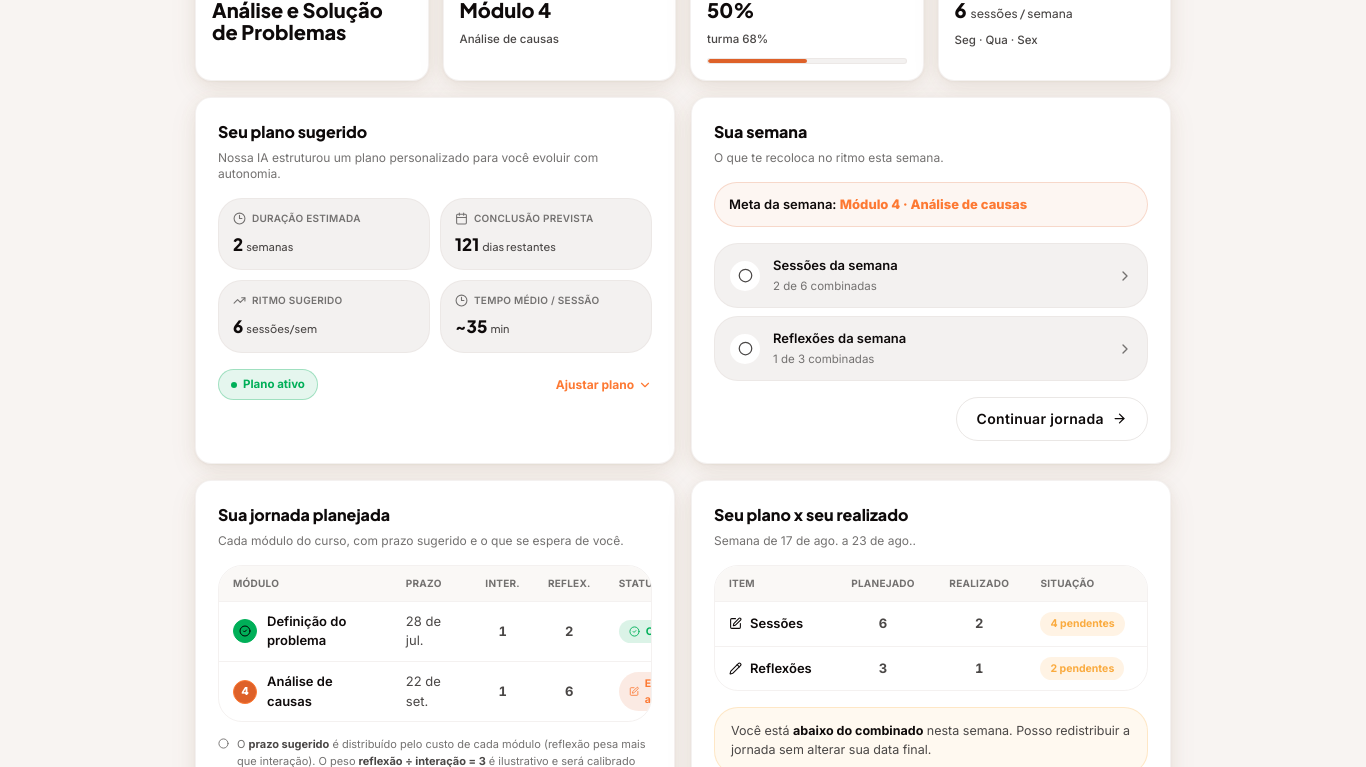
it: MeuPlanoClient — degradação graciosa do dashboard (SH-3.3 AC6, preservado) › sem dias escolhidos, o stat 'Ritmo escolhido' degrada para 'nenhum dia escolhido' (sem crash)
The width and height of the screenshot is (1366, 767).
(page scrolled)
Click the button with test id "adjust-toggle".
click(604, 384)  # box [556,376,652,392]
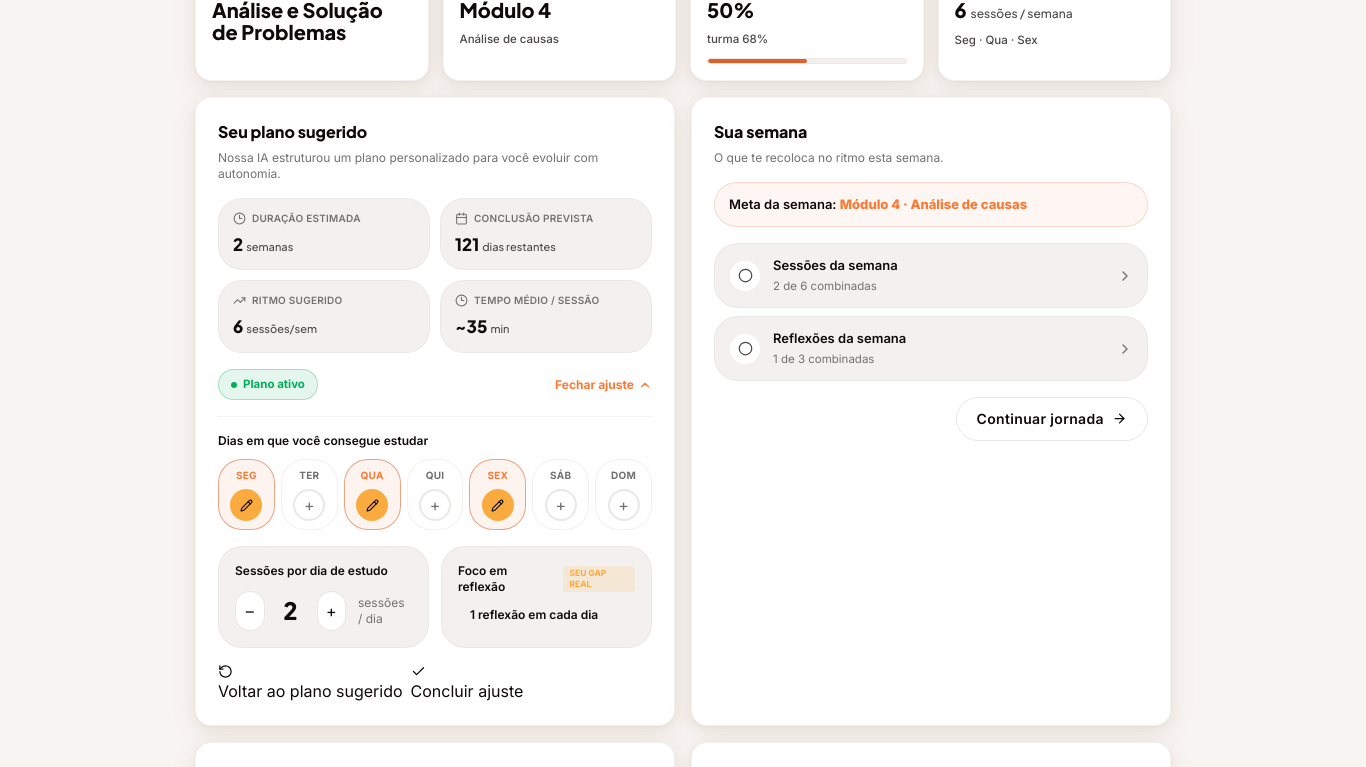
Click the button "Seg".
click(246, 495)  # box [218,459,275,530]
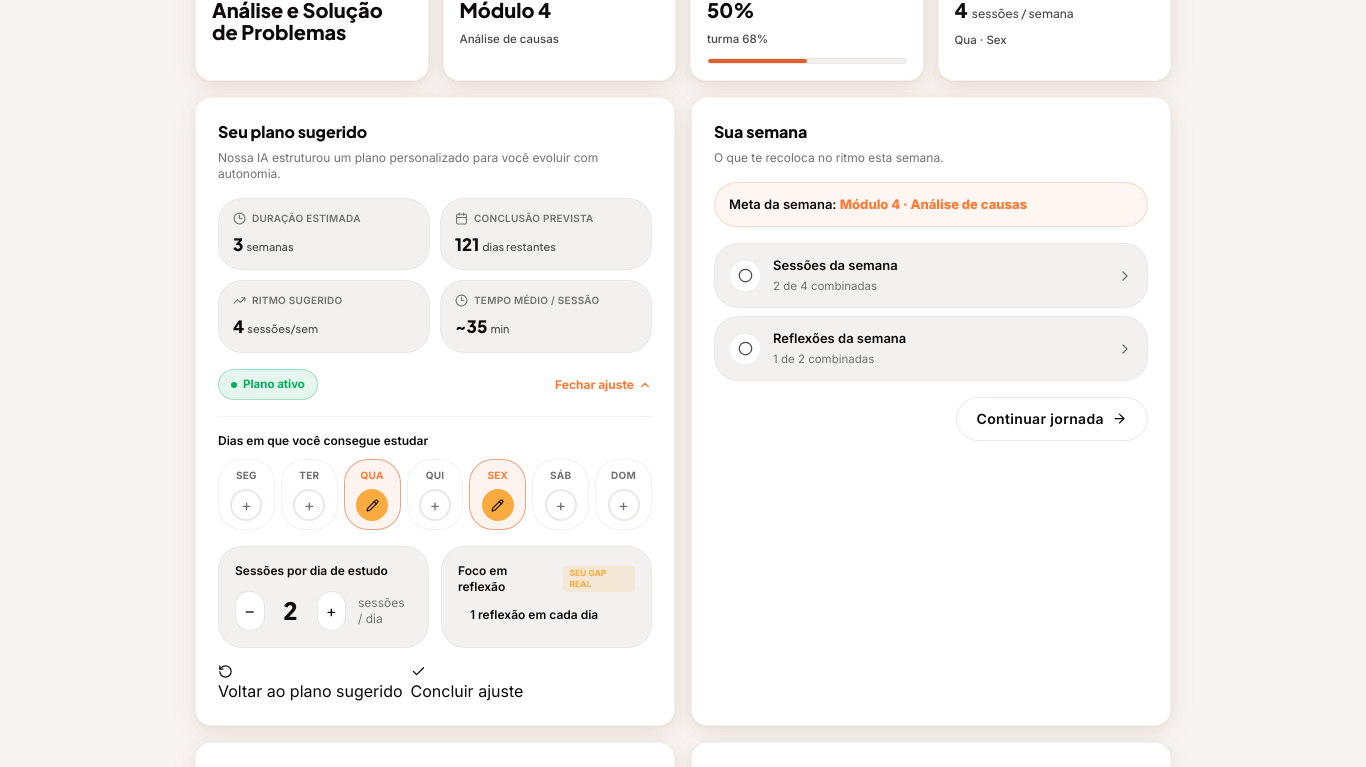
Click the button "Qua".
click(372, 495)  # box [344,459,401,530]
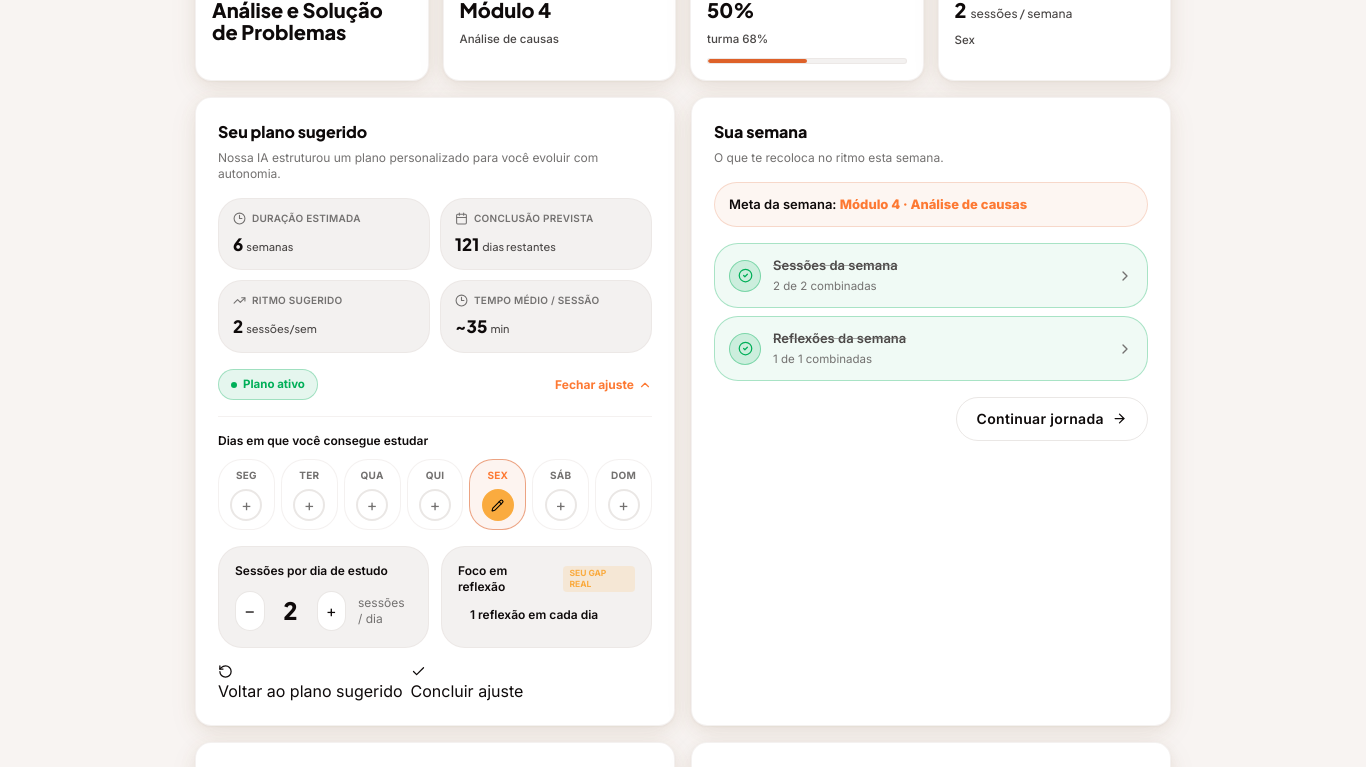
Click the button "Sex".
click(498, 495)  # box [469,459,526,530]
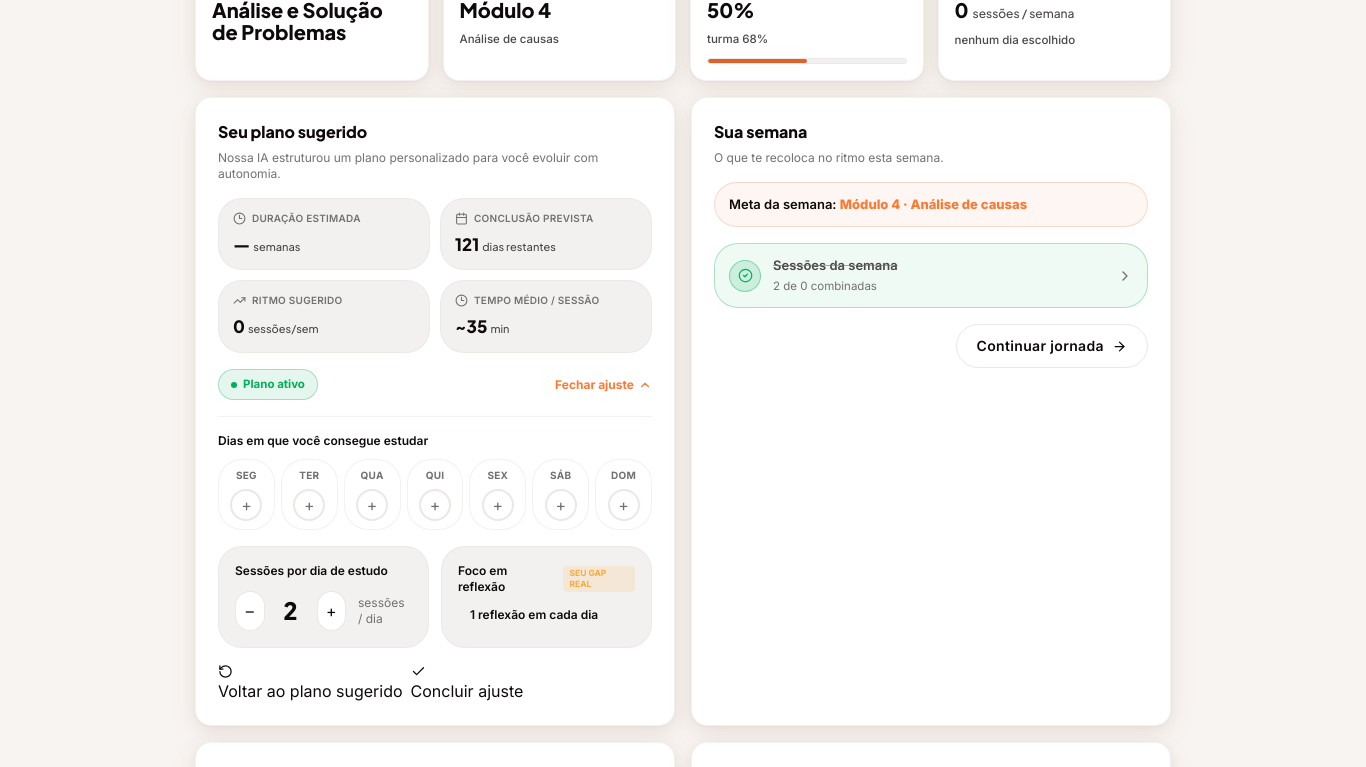
Check: the text "nenhum dia escolhido" is shown, box [954,33,1075,47]
